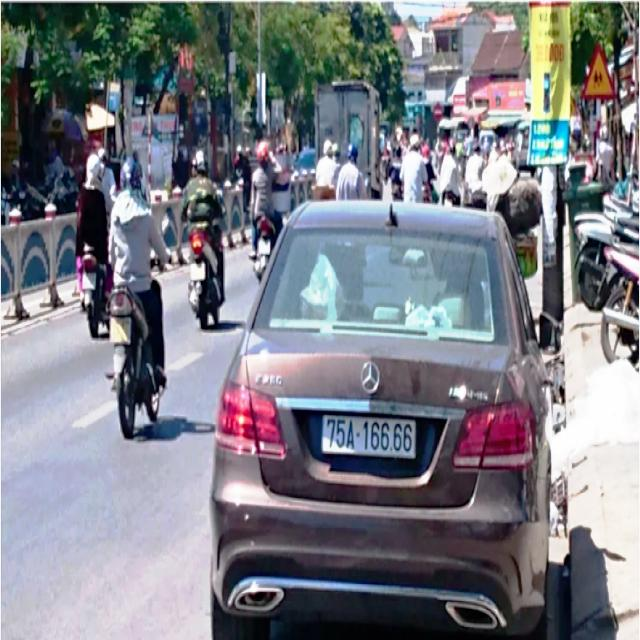license_plate: (324, 416, 416, 458)
